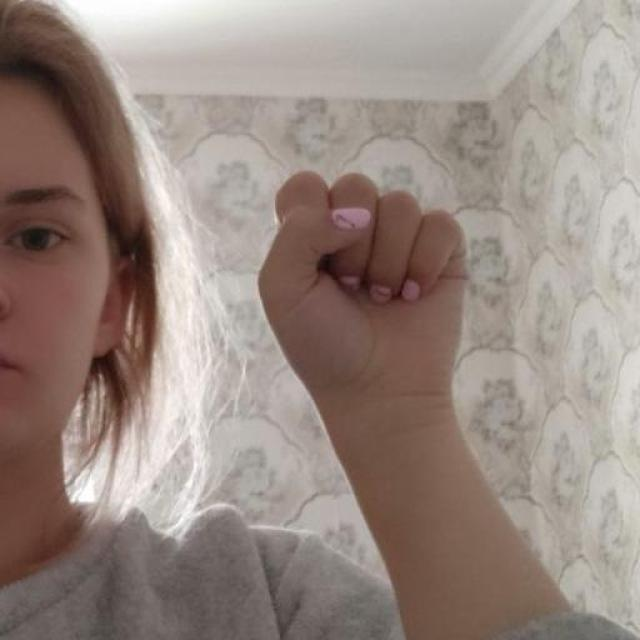hand: (255, 168, 470, 428)
